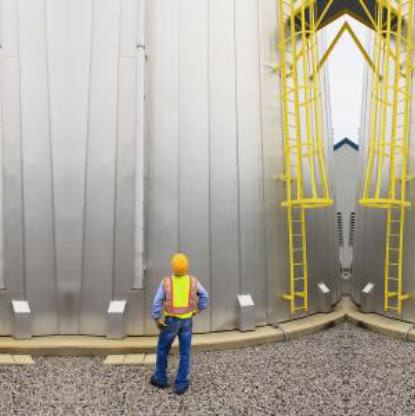Safety Helmet: (167, 248, 199, 286)
